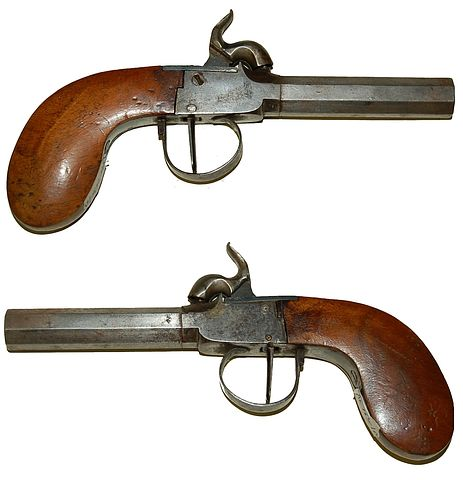gun: (4, 12, 463, 236), (2, 258, 458, 472)
